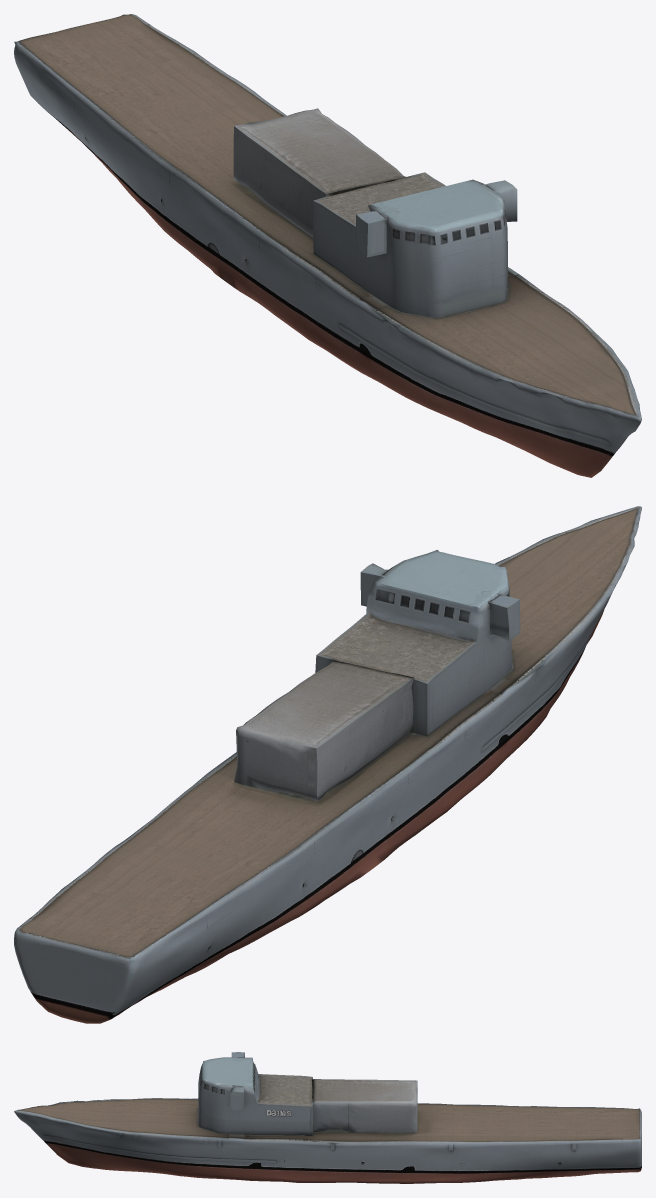
The model's file is hull_fac.glb.
3 views of the same model, one above another, from view 1: azimuth 30°, elevation 25°; view 2: azimuth 150°, elevation 25°; view 3: azimuth 270°, elevation 25° (orthographic). The views are drawn at different scales.
Parts seen in each view (by area): view 1: tripo_node_294aa10f-67c1-4862-8348-baddafb62c47; view 2: tripo_node_294aa10f-67c1-4862-8348-baddafb62c47; view 3: tripo_node_294aa10f-67c1-4862-8348-baddafb62c47.
Part boxes in pixels (x1,y1,x2,y2): tripo_node_294aa10f-67c1-4862-8348-baddafb62c47: [14, 14, 641, 477]; tripo_node_294aa10f-67c1-4862-8348-baddafb62c47: [14, 506, 641, 1023]; tripo_node_294aa10f-67c1-4862-8348-baddafb62c47: [14, 1052, 641, 1183].
Size of the model in its own units: 9.5 by 10.7 by 61.28.
Materials: 1 (1 with a texture image).
